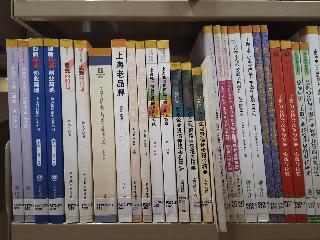book-spine: (223, 25, 260, 223), (239, 24, 270, 225), (84, 46, 119, 223), (202, 25, 232, 222), (259, 24, 287, 224), (219, 26, 247, 224), (252, 23, 279, 225), (279, 40, 308, 224), (211, 26, 238, 221), (269, 40, 297, 223), (290, 42, 318, 223), (154, 40, 180, 225), (27, 37, 51, 225), (70, 40, 94, 222), (202, 58, 227, 232), (109, 39, 132, 224), (177, 60, 202, 224), (189, 67, 215, 224), (144, 40, 166, 223), (4, 38, 25, 224), (43, 38, 64, 224), (59, 39, 80, 223), (299, 41, 320, 223), (169, 61, 191, 224), (16, 38, 35, 224), (135, 41, 152, 221), (126, 40, 142, 221)
